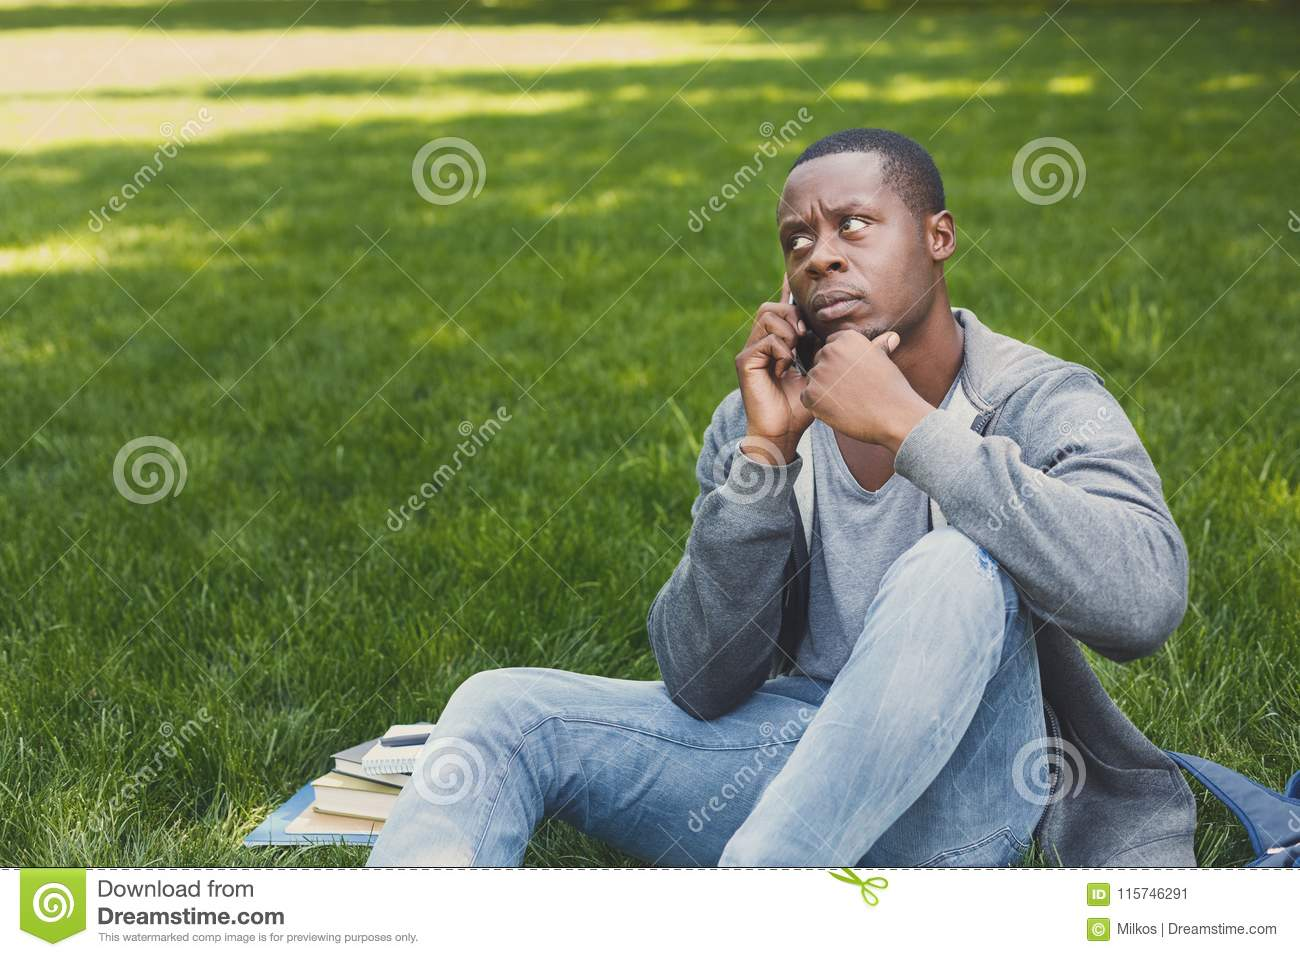phone: (780, 284, 817, 384)
talk: (735, 193, 889, 449)
